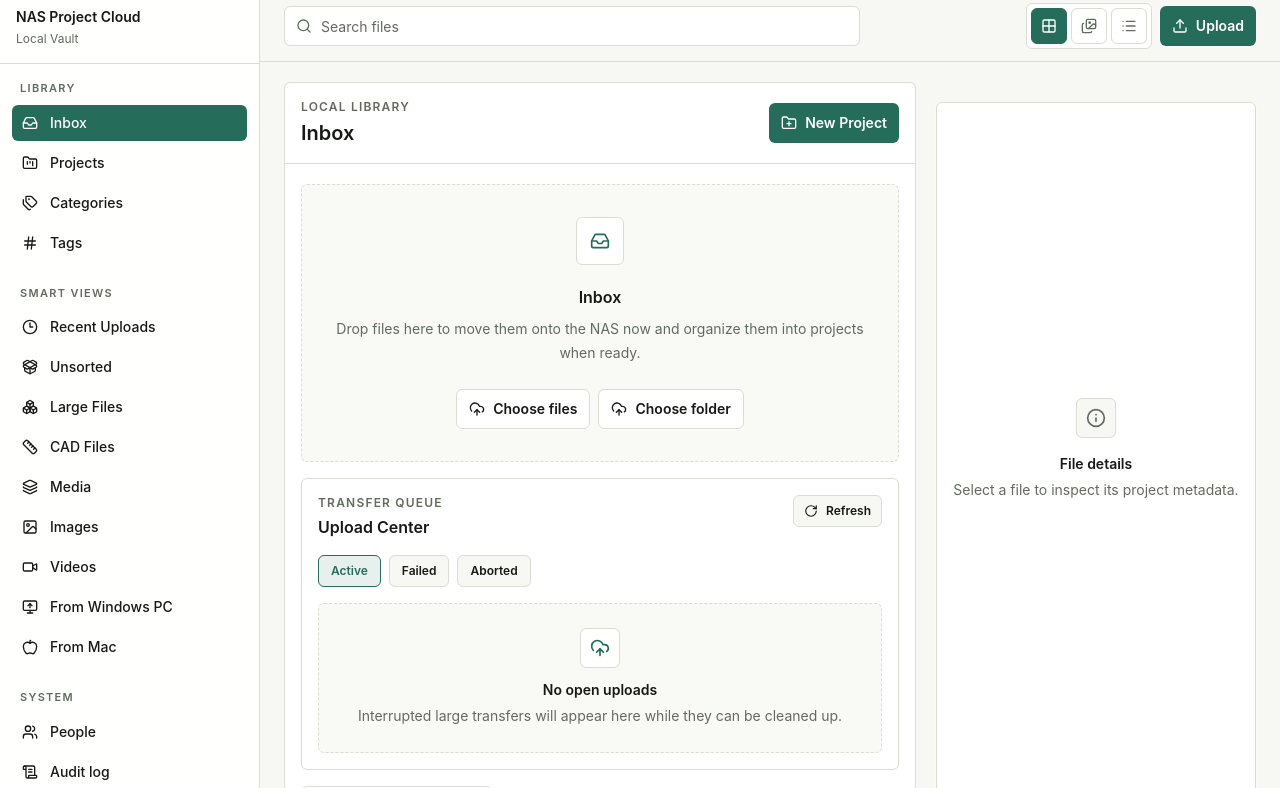
Scenario: AppShell › renders a truncation banner when the server reports the result was capped
The width and height of the screenshot is (1280, 788).
Type "manual" into the search field labelled "Search files".
click(572, 26); type("manual")  # box [284,6,860,46]
(page scrolled)
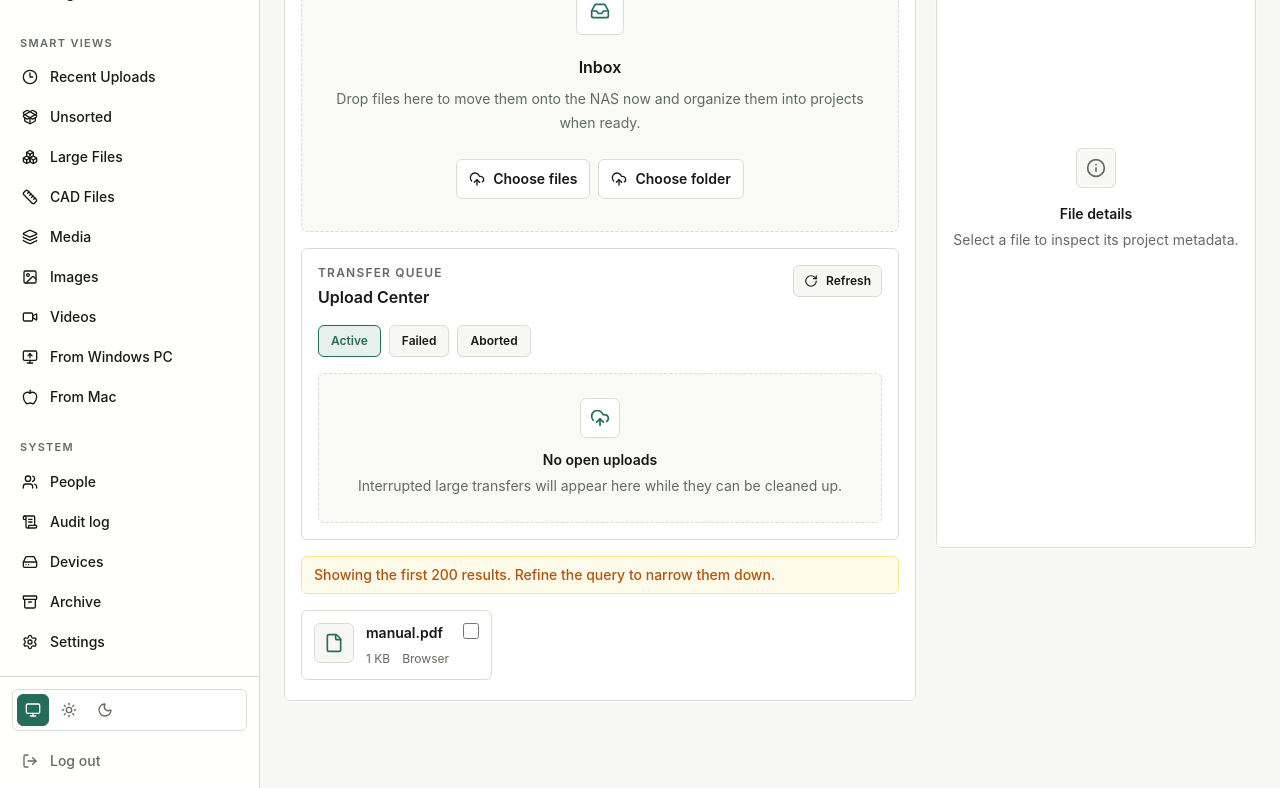
Now the text "Showing the first 200 results. Refine the query to narrow them down." is shown, box [301,556,899,594]
